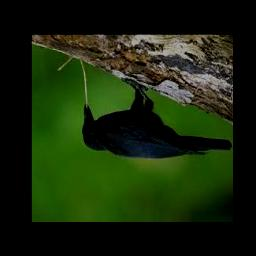Crow: (82, 80, 232, 159)
